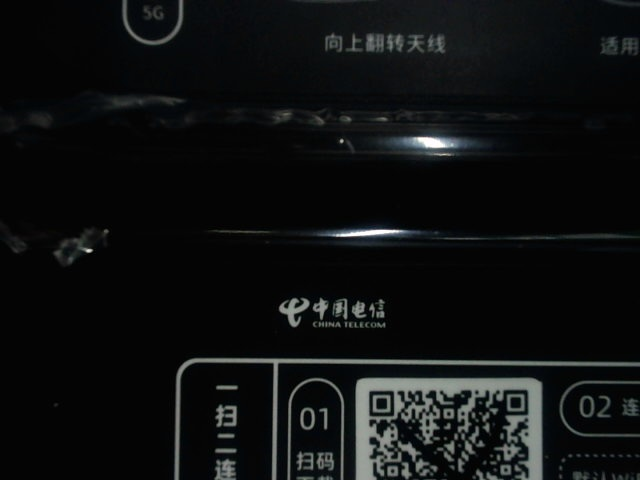AB_ChinaTelecom: (263, 274, 412, 340)
